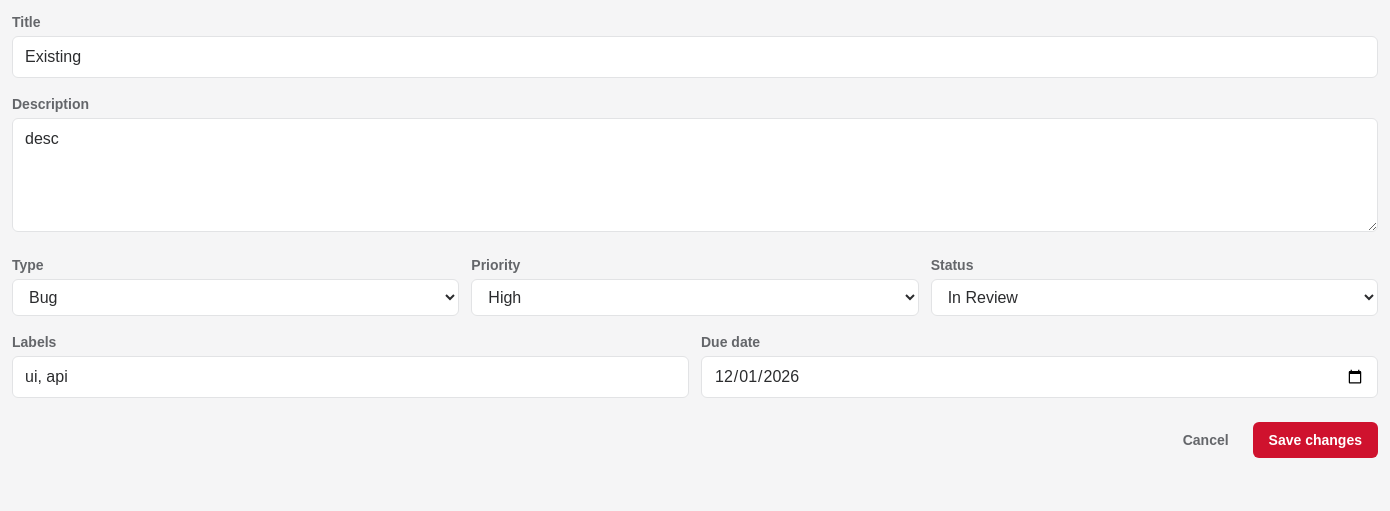
ItemForm › shows save errors and stays usable
Click the button "Save changes": (1315, 440) [1253, 422, 1378, 458]
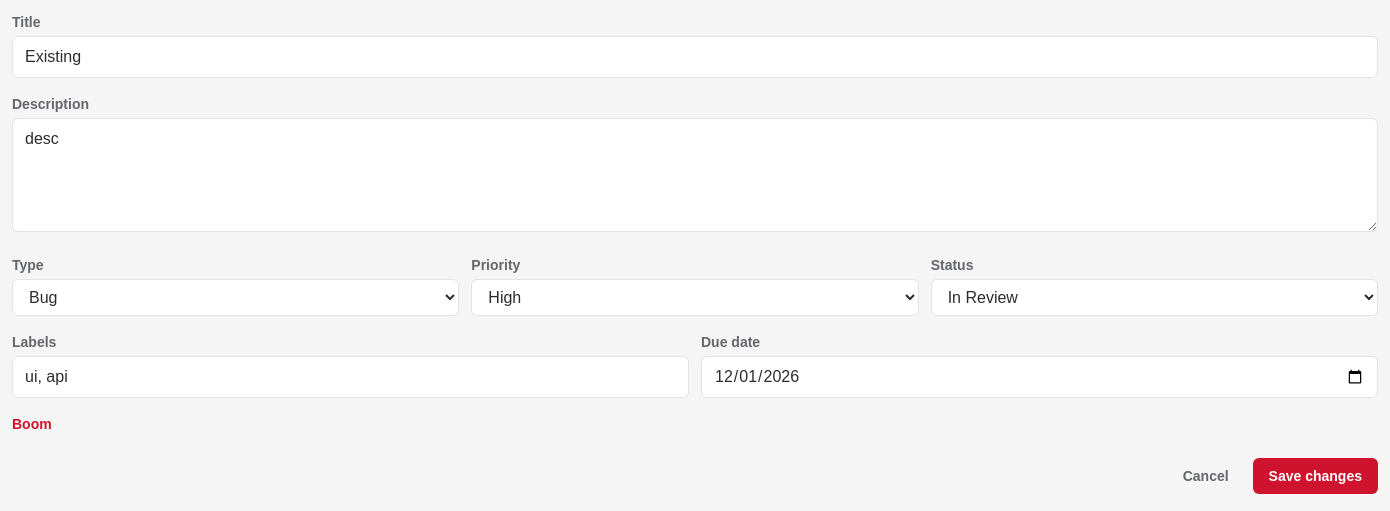
Expected: the button "Save changes" is enabled, [1253, 458, 1378, 494]
Expected: the message reads "Boom", [12, 416, 52, 432]
